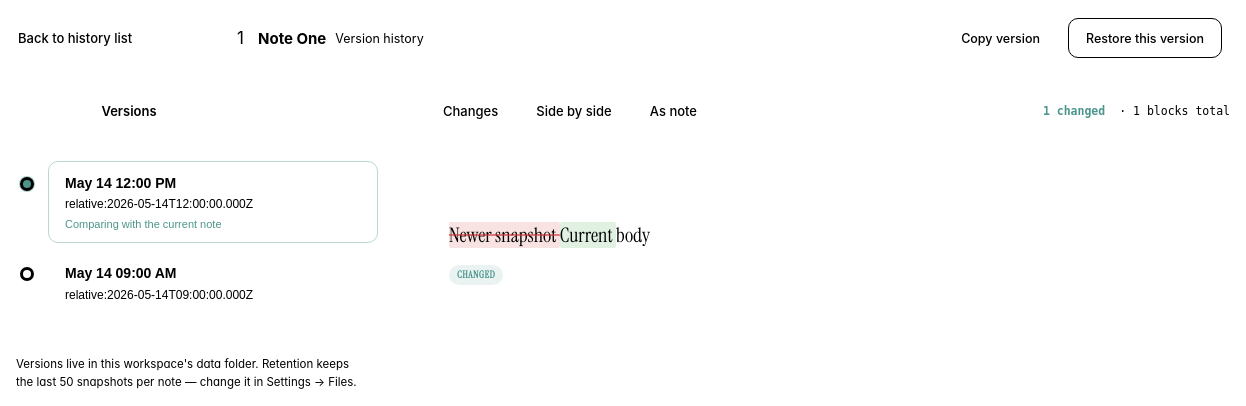
it: HistoryView › shows an error message when restore fails and keeps the confirm step open
Click the button with class "nv-btn--primary".
click(1145, 38)  # box [1068, 18, 1222, 58]
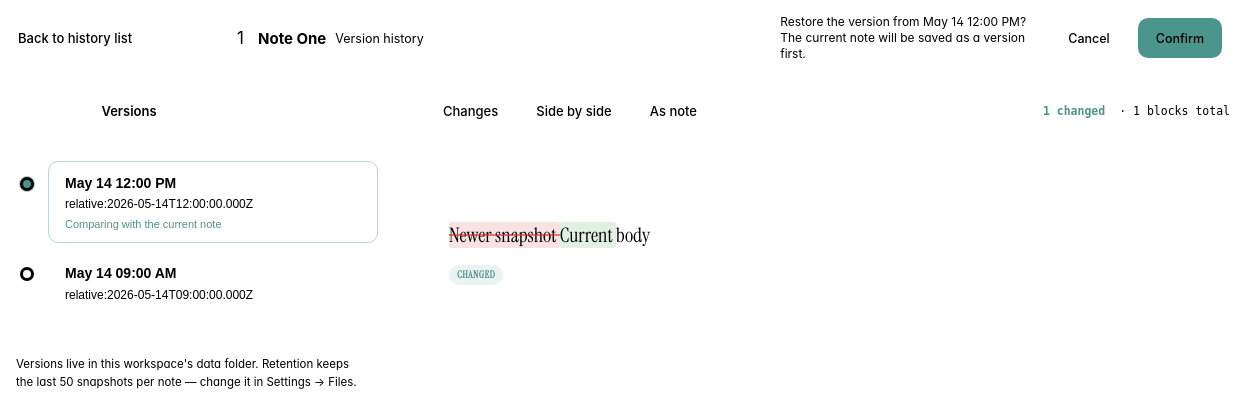
Click the button with class "nv-btn--primary".
click(1180, 38)  # box [1138, 18, 1222, 58]
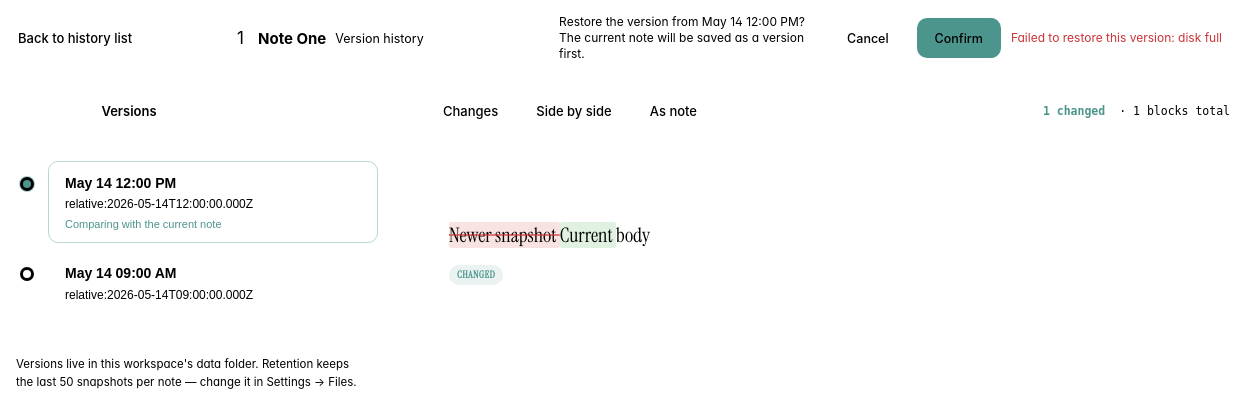
Now the text "disk full" is shown, box [1011, 30, 1222, 45]
